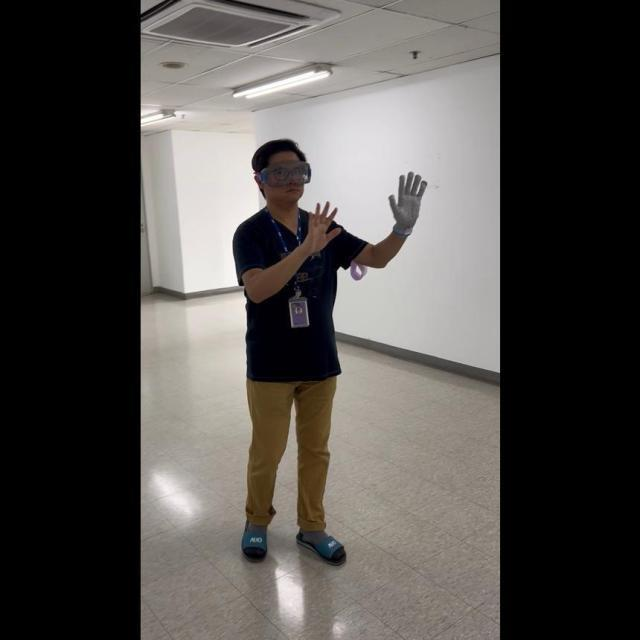bare_hand: (300, 195, 341, 244)
gloved_hand: (385, 170, 426, 235)
